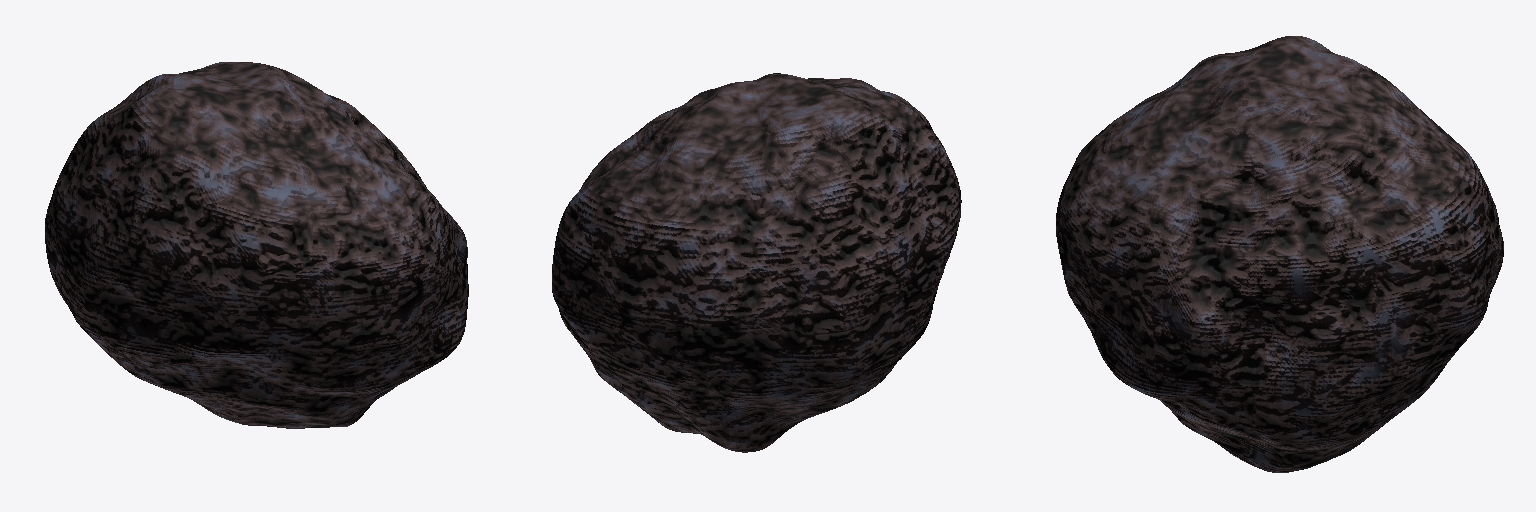
3 views of the same model, side by side, from view 1: azimuth 30°, elevation 25°; view 2: azimuth 150°, elevation 25°; view 3: azimuth 270°, elevation 25° (orthographic).
Visible parts, largest first — view 1: Asteroid3; view 2: Asteroid3; view 3: Asteroid3.
Part boxes in pixels (x1,y1,x2,y2): Asteroid3: (45,62,468,428); Asteroid3: (552,73,961,452); Asteroid3: (1056,36,1503,472).
Size of the model in its own units: 2.76 by 2.73 by 3.13.
Materials: 1 (1 with a texture image).